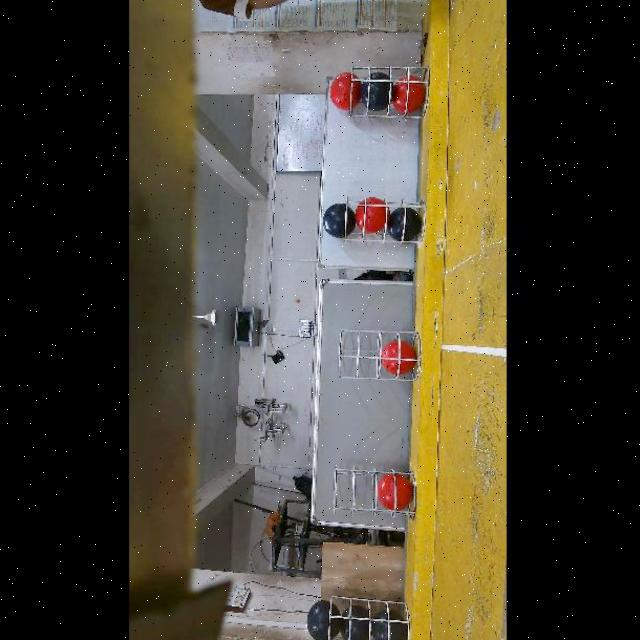P: (307, 600, 341, 640), (359, 70, 390, 111), (387, 206, 421, 241), (322, 202, 355, 238), (337, 605, 370, 640), (371, 610, 408, 640)
R: (391, 75, 426, 115), (377, 474, 413, 511), (329, 73, 360, 111), (354, 197, 385, 234), (383, 340, 415, 374)
S: (348, 64, 430, 118), (331, 467, 413, 521), (346, 194, 430, 246), (332, 332, 420, 381), (326, 596, 408, 640)
